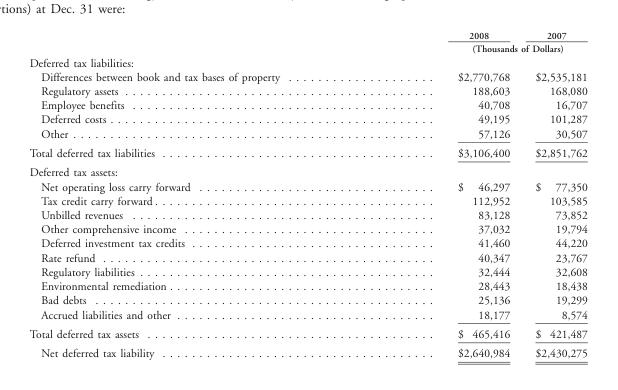table: (28, 29, 586, 359)
table column: (28, 29, 368, 359), (368, 29, 521, 359), (521, 29, 586, 359)
table column header: (28, 29, 586, 54)
table projected row header: (28, 162, 586, 179), (28, 54, 586, 69)
table row: (28, 142, 586, 162), (28, 323, 586, 343), (28, 162, 586, 179), (28, 126, 586, 142), (28, 307, 586, 323), (28, 343, 586, 359), (28, 54, 586, 69), (28, 111, 586, 126), (28, 235, 586, 250), (28, 292, 586, 307), (28, 69, 586, 83), (28, 83, 586, 97), (28, 97, 586, 111), (28, 179, 586, 193), (28, 193, 586, 207), (28, 207, 586, 221), (28, 221, 586, 235), (28, 250, 586, 264), (28, 264, 586, 278), (28, 278, 586, 292), (28, 41, 586, 54), (28, 29, 586, 41)
table spanning cell: (368, 41, 586, 54)
